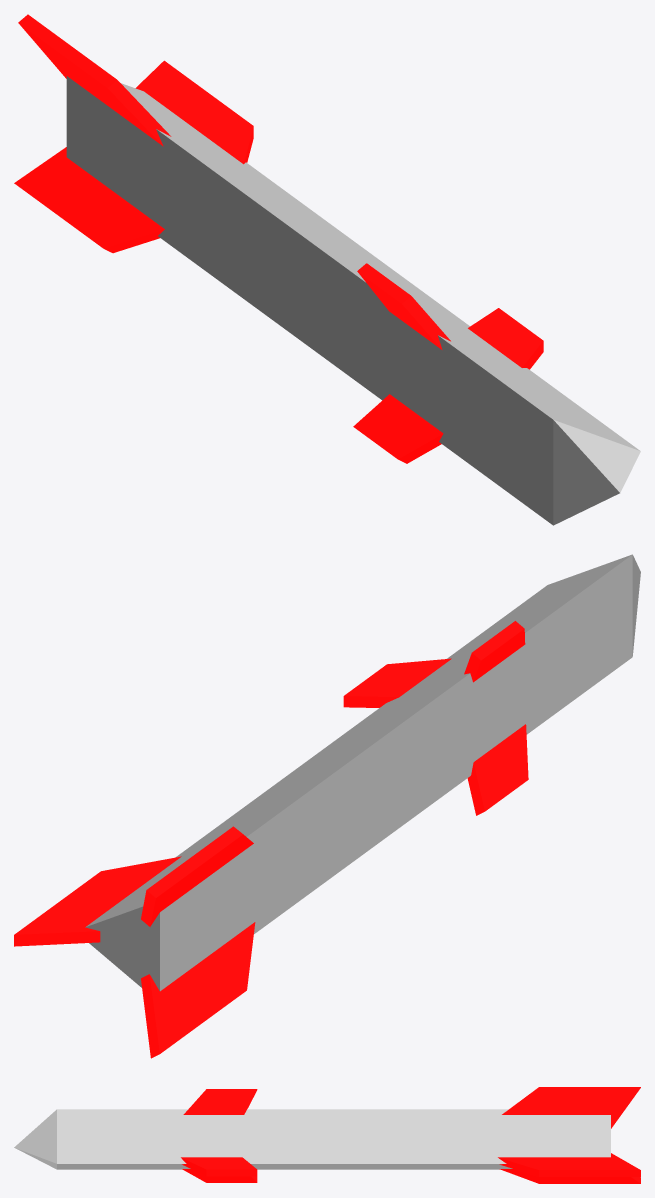
File: Fatman_Missile_Small.fbx
3 renders of one model, top to bottom at view 1: azimuth 30°, elevation 25°; view 2: azimuth 150°, elevation 25°; view 3: azimuth 270°, elevation 25°, orthographic. The views are drawn at different scales.
Visible parts, largest first — view 1: rocket_small; view 2: rocket_small; view 3: rocket_small.
Part boxes in pixels (x1,y1,x2,y2): rocket_small: (14,14,640,525); rocket_small: (14,554,640,1058); rocket_small: (14,1087,640,1183).
Bounding box in the file's own units: 0.00143 × 0.00157 × 0.0091.
